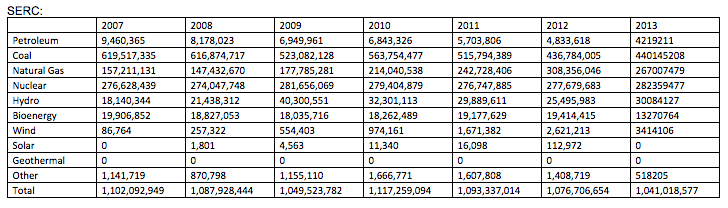fracking table: (7, 17, 720, 199)
